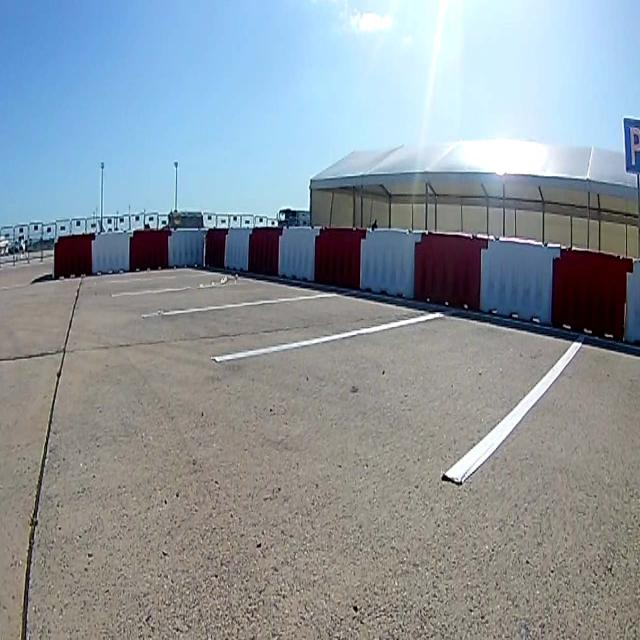park: (622, 116, 640, 174)
